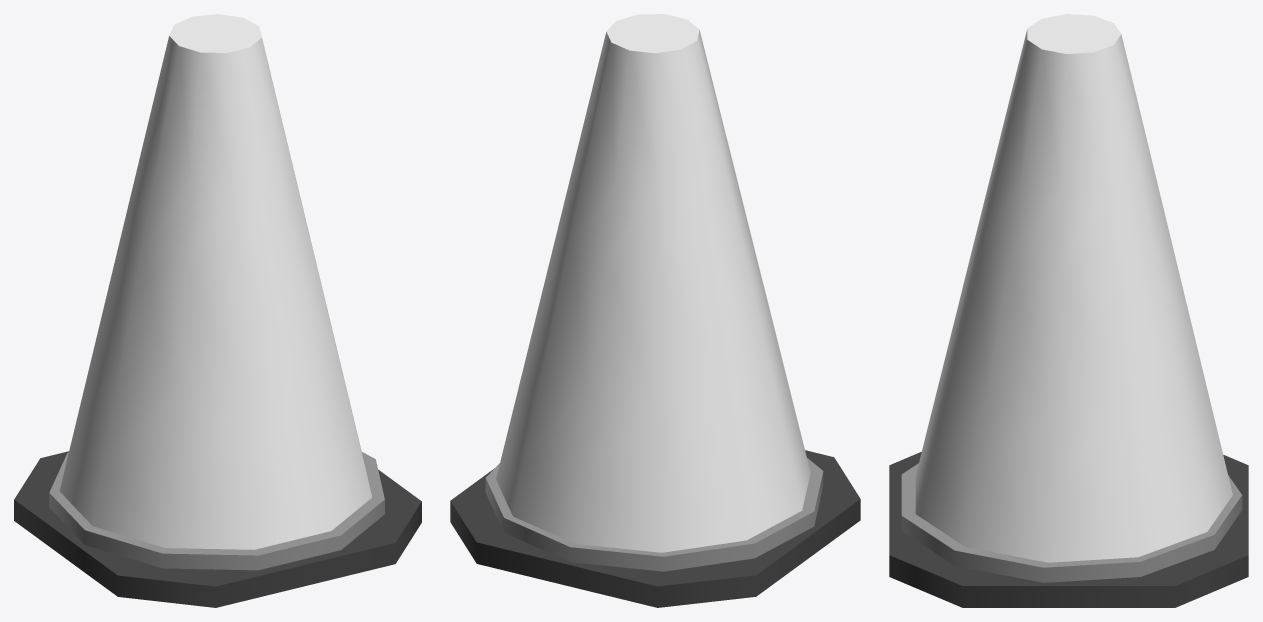
The model's file is diff_8.fbx.
The picture shows the model from 3 angles, left to right: view 1: azimuth 30°, elevation 25°; view 2: azimuth 150°, elevation 25°; view 3: azimuth 270°, elevation 25°; orthographic projection. The views are drawn at different scales.
Parts seen in each view (by area): view 1: Cylinder.004; view 2: Cylinder.004; view 3: Cylinder.004.
Part boxes in pixels (x1,y1,x2,y2): Cylinder.004: (14,14,421,607); Cylinder.004: (450,14,860,607); Cylinder.004: (889,14,1248,607).
Size of the model in its own units: 149 by 228 by 149.
